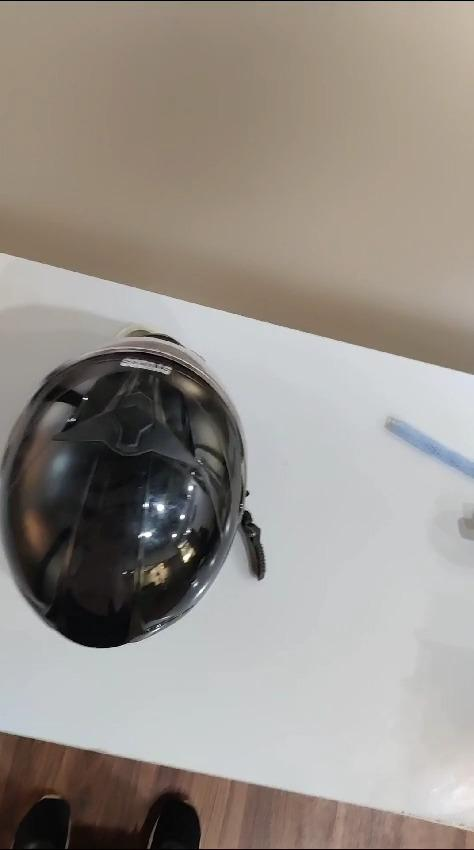Helmet: (6, 318, 268, 667)
